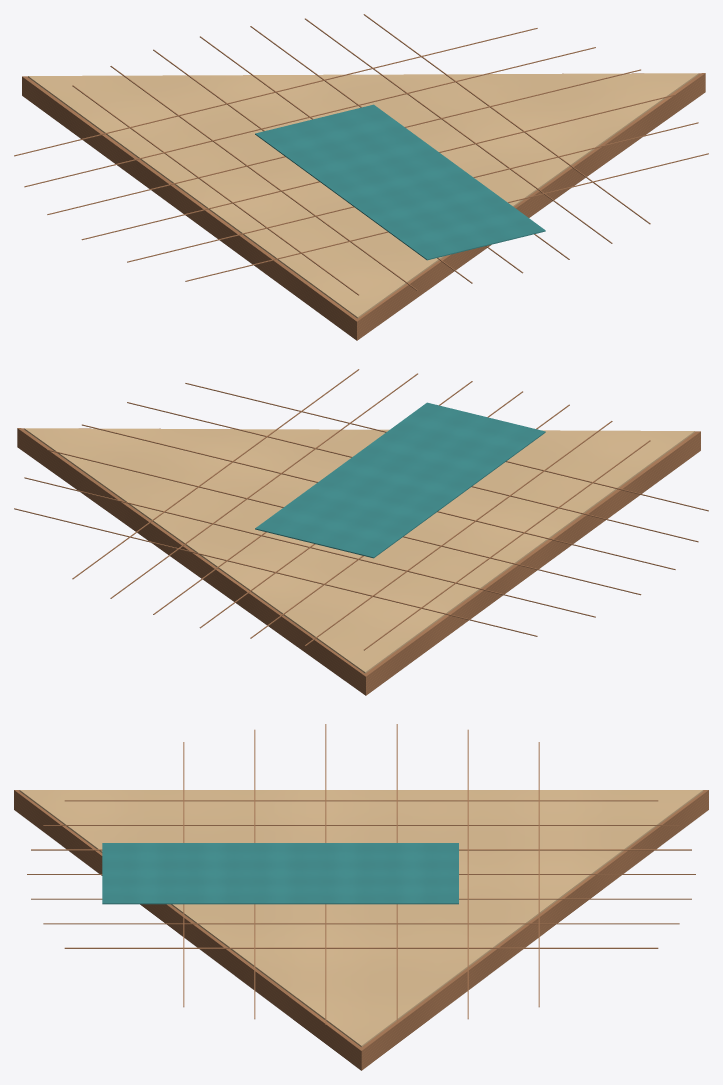
The model's file is atlas100-s093-a07.lod2.glb.
3 views of the same model, one above another, from view 1: azimuth 30°, elevation 25°; view 2: azimuth 150°, elevation 25°; view 3: azimuth 270°, elevation 25° (orthographic). The views are drawn at different scales.
Visible parts, largest first — view 1: atlas100-s093-a07:part-001, atlas100-s093-a07:part-021, atlas100-s093-a07:part-000, atlas100-s093-a07:part-015, atlas100-s093-a07:part-014, atlas100-s093-a07:part-017, atlas100-s093-a07:part-016, atlas100-s093-a07:part-018, atlas100-s093-a07:part-019, atlas100-s093-a07:part-005, atlas100-s093-a07:part-009, atlas100-s093-a07:part-010 (+1 smaller); view 2: atlas100-s093-a07:part-001, atlas100-s093-a07:part-021, atlas100-s093-a07:part-000, atlas100-s093-a07:part-015, atlas100-s093-a07:part-014, atlas100-s093-a07:part-016, atlas100-s093-a07:part-017, atlas100-s093-a07:part-018, atlas100-s093-a07:part-019, atlas100-s093-a07:part-005, atlas100-s093-a07:part-009, atlas100-s093-a07:part-010 (+1 smaller); view 3: atlas100-s093-a07:part-001, atlas100-s093-a07:part-021, atlas100-s093-a07:part-000, atlas100-s093-a07:part-009, atlas100-s093-a07:part-010, atlas100-s093-a07:part-004, atlas100-s093-a07:part-005, atlas100-s093-a07:part-006, atlas100-s093-a07:part-008, atlas100-s093-a07:part-015.
Part boxes in pixels (x1=…): atlas100-s093-a07:part-001: x1=28, y1=73, x2=698, y2=318; atlas100-s093-a07:part-021: x1=255, y1=104, x2=545, y2=260; atlas100-s093-a07:part-000: x1=22, y1=73, x2=705, y2=340; atlas100-s093-a07:part-015: x1=24, y1=47, x2=595, y2=187; atlas100-s093-a07:part-014: x1=14, y1=28, x2=537, y2=156; atlas100-s093-a07:part-017: x1=81, y1=94, x2=675, y2=240; atlas100-s093-a07:part-016: x1=47, y1=69, x2=640, y2=214; atlas100-s093-a07:part-018: x1=127, y1=122, x2=698, y2=262; atlas100-s093-a07:part-019: x1=185, y1=153, x2=708, y2=281; atlas100-s093-a07:part-005: x1=110, y1=66, x2=418, y2=291; atlas100-s093-a07:part-009: x1=305, y1=18, x2=612, y2=243; atlas100-s093-a07:part-010: x1=363, y1=14, x2=650, y2=224; atlas100-s093-a07:part-001: x1=24, y1=428, x2=694, y2=673; atlas100-s093-a07:part-021: x1=255, y1=402, x2=545, y2=558; atlas100-s093-a07:part-000: x1=17, y1=428, x2=700, y2=695; atlas100-s093-a07:part-015: x1=24, y1=477, x2=595, y2=617; atlas100-s093-a07:part-014: x1=14, y1=508, x2=537, y2=636; atlas100-s093-a07:part-016: x1=47, y1=449, x2=641, y2=595; atlas100-s093-a07:part-017: x1=82, y1=424, x2=675, y2=569; atlas100-s093-a07:part-018: x1=127, y1=402, x2=698, y2=542; atlas100-s093-a07:part-019: x1=185, y1=383, x2=708, y2=511; atlas100-s093-a07:part-005: x1=304, y1=421, x2=612, y2=646; atlas100-s093-a07:part-009: x1=110, y1=373, x2=417, y2=598; atlas100-s093-a07:part-010: x1=72, y1=369, x2=359, y2=579; atlas100-s093-a07:part-001: x1=19, y1=790, x2=703, y2=1046; atlas100-s093-a07:part-021: x1=102, y1=843, x2=458, y2=904; atlas100-s093-a07:part-000: x1=14, y1=790, x2=708, y2=1070; atlas100-s093-a07:part-009: x1=43, y1=923, x2=679, y2=924; atlas100-s093-a07:part-010: x1=64, y1=947, x2=658, y2=948; atlas100-s093-a07:part-004: x1=64, y1=800, x2=658, y2=801; atlas100-s093-a07:part-005: x1=43, y1=825, x2=679, y2=825; atlas100-s093-a07:part-006: x1=31, y1=849, x2=691, y2=850; atlas100-s093-a07:part-008: x1=31, y1=898, x2=691, y2=899; atlas100-s093-a07:part-015: x1=467, y1=729, x2=468, y2=1019.
Bounding box in the file's own units: 11.87 × 0.404 × 10.76.
Materials: 3 (3 with a texture image).
